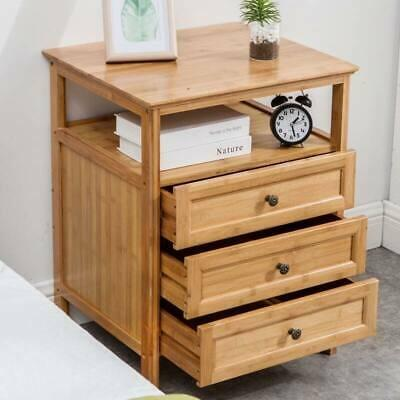cabinet_door: (203, 299, 371, 365), (179, 170, 353, 226), (192, 241, 364, 294)
handle: (286, 325, 303, 344), (263, 192, 280, 210), (276, 261, 292, 279)
